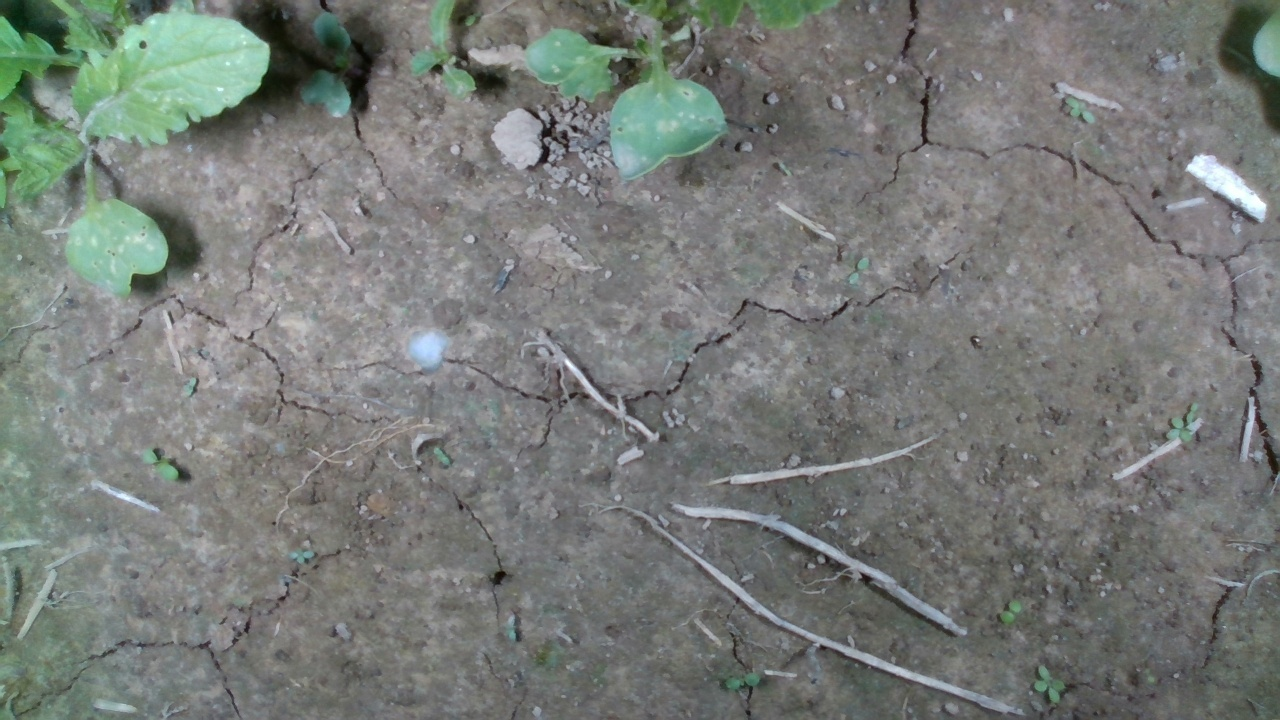weed: (138, 448, 179, 482), (1032, 664, 1066, 704), (847, 255, 871, 287), (722, 672, 759, 691), (999, 598, 1024, 625), (285, 544, 316, 565), (433, 446, 452, 469)
